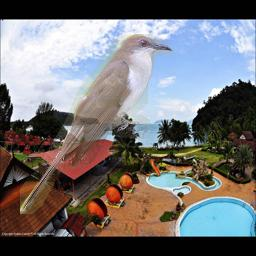Cuckoo: (20, 34, 174, 214)
